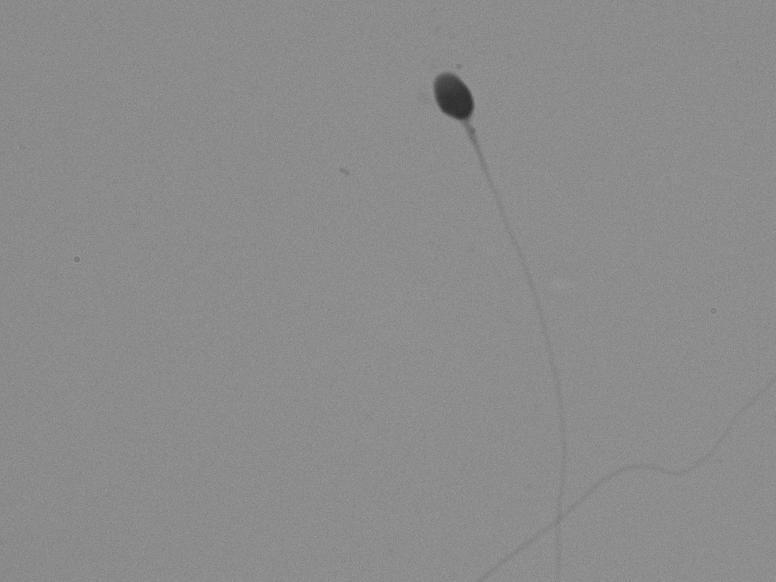Normal: (382, 39, 619, 555)
